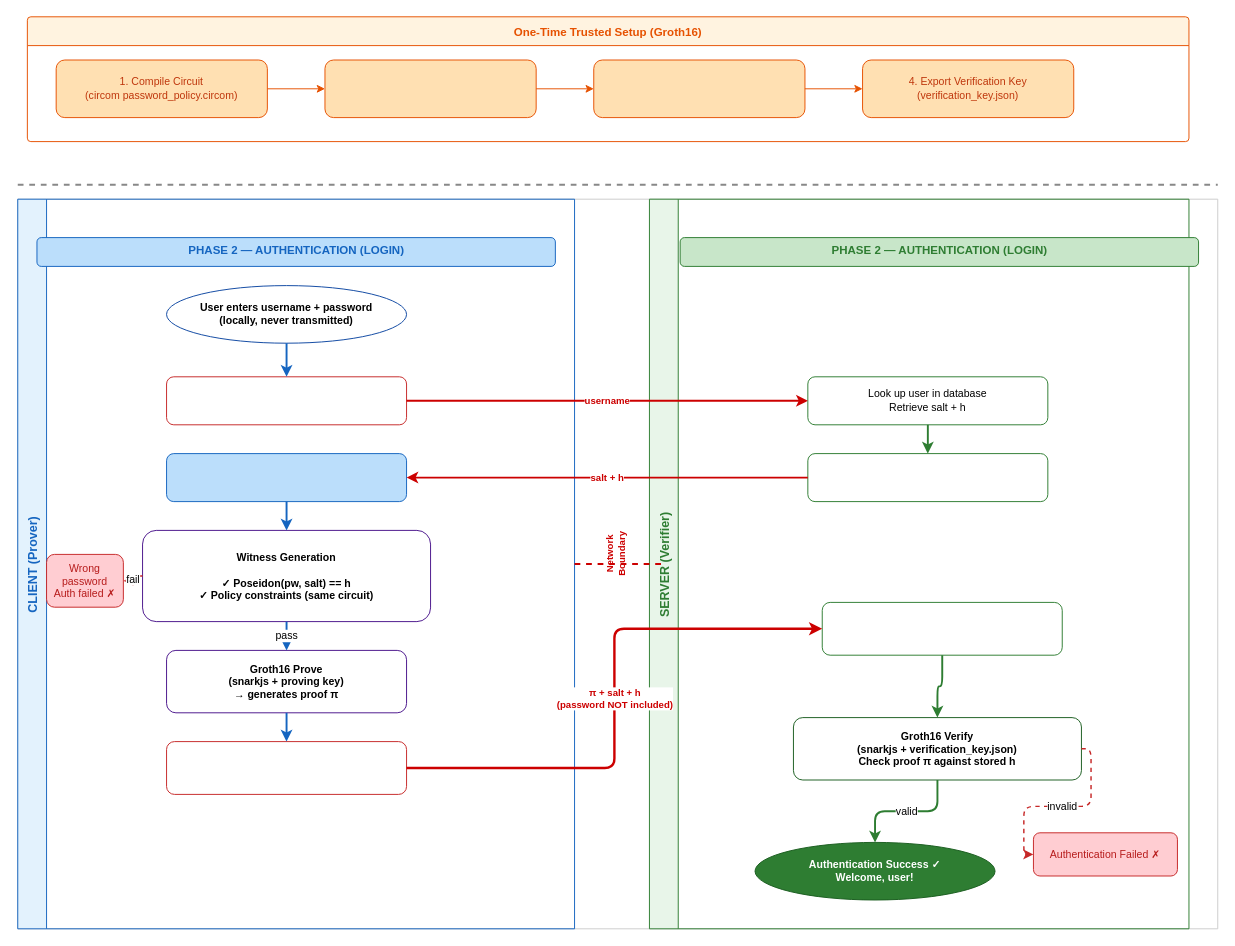
The diagram is 1235 pixels wide and 946 high, and some of its shapes have lost their labels. The centre of each missing label's shape, as x and y in pixels:
2. Powers of Tau Ceremony (snarkjs powersoftau): the point at 430,88
3. Generate Circuit zkey (snarkjs groth16 setup): the point at 699,88
Receive: proof π + public inputs: the point at 941,628
Receive: salt + h: the point at 286,477
Request: salt + h for username: the point at 286,400
Send to server: proof π + public inputs (salt, h): the point at 286,767
Send: salt + h to client: the point at 927,477
